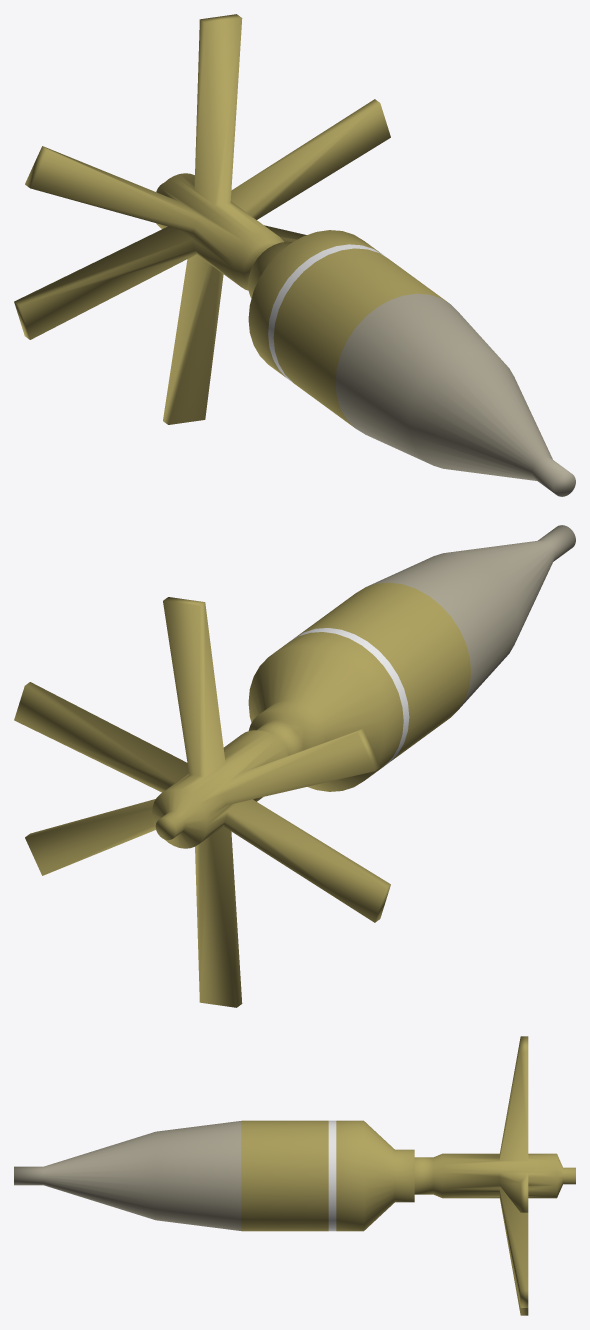
The model's file is at_rocket.fbx.
The picture shows the model from 3 angles, top to bottom: view 1: azimuth 30°, elevation 25°; view 2: azimuth 150°, elevation 25°; view 3: azimuth 270°, elevation 25°; orthographic projection. The views are drawn at different scales.
Visible parts, largest first — view 1: Cylinder; view 2: Cylinder; view 3: Cylinder.
Part boxes in pixels (box(x1,y1,x2,y2)): Cylinder: box(14, 14, 575, 496); Cylinder: box(14, 525, 575, 1007); Cylinder: box(14, 1036, 575, 1315).
Size of the model in its own units: 56.85 by 57.97 by 106.
